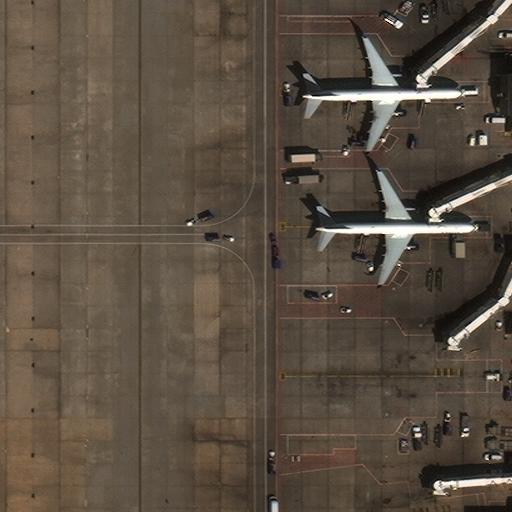Large Civil Transport: (314, 170, 478, 284), (301, 37, 463, 151)
